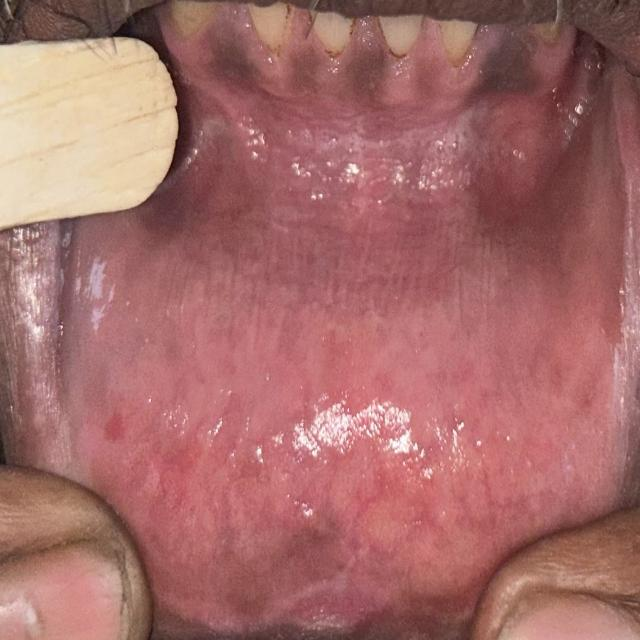leukoplakia-like-detection: (67, 304, 617, 602)
processing_area: (10, 1, 625, 615)
